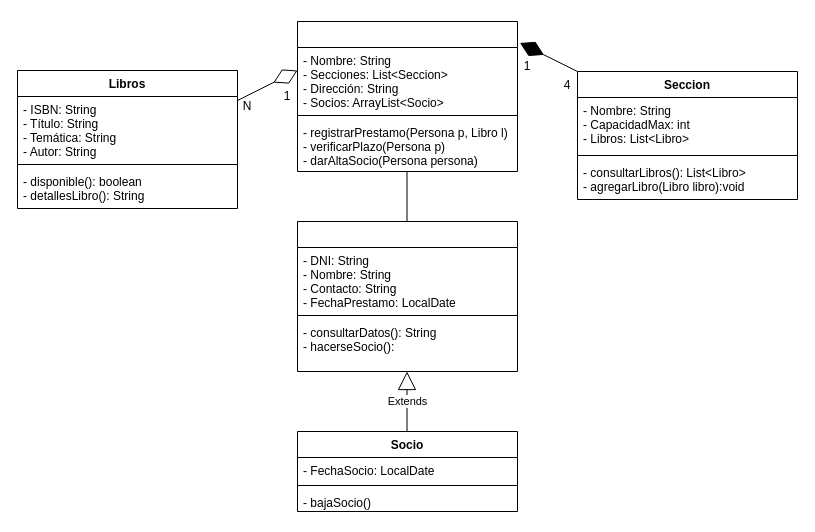
The diagram is 815 pixels wide and 532 high, and some of its shapes have lost their labels. The box of each missing label's shape, as (x1, y1, x2, y2) in pixels:
BIBLIOTECA: (296, 20, 518, 172)
Persona: (296, 220, 518, 372)
